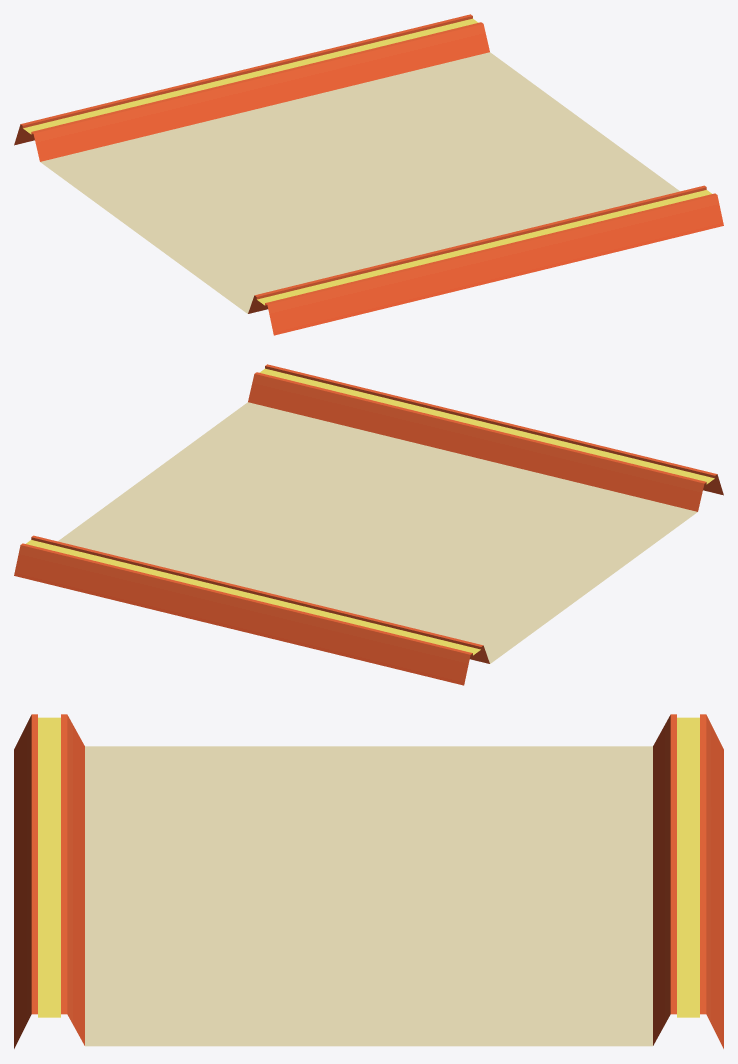
File: sm_path_futuristic_straight.fbx
The picture shows the model from 3 angles, top to bottom: view 1: azimuth 30°, elevation 25°; view 2: azimuth 150°, elevation 25°; view 3: azimuth 270°, elevation 25°; orthographic projection. The views are drawn at different scales.
Parts seen in each view (by area): view 1: sm_path_futuristic_straight; view 2: sm_path_futuristic_straight; view 3: sm_path_futuristic_straight.
Part boxes in pixels (x1,y1,x2,y2): sm_path_futuristic_straight: [14, 14, 723, 335]; sm_path_futuristic_straight: [14, 364, 723, 685]; sm_path_futuristic_straight: [14, 714, 723, 1048].
Size of the model in its own units: 300 by 300 by 16.6.
